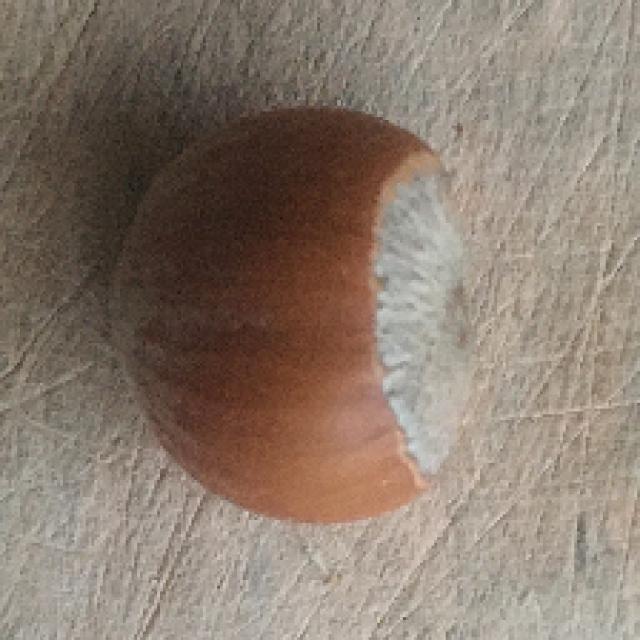QualityHazelnut: (103, 112, 480, 525)
